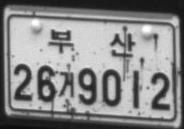0: (101, 68, 121, 107)
1: (127, 70, 145, 108)
2: (149, 71, 170, 111), (13, 62, 32, 101)
6: (36, 64, 55, 102)
9: (77, 67, 97, 105)
거: (58, 70, 75, 97)
부산_D: (48, 28, 137, 58)
